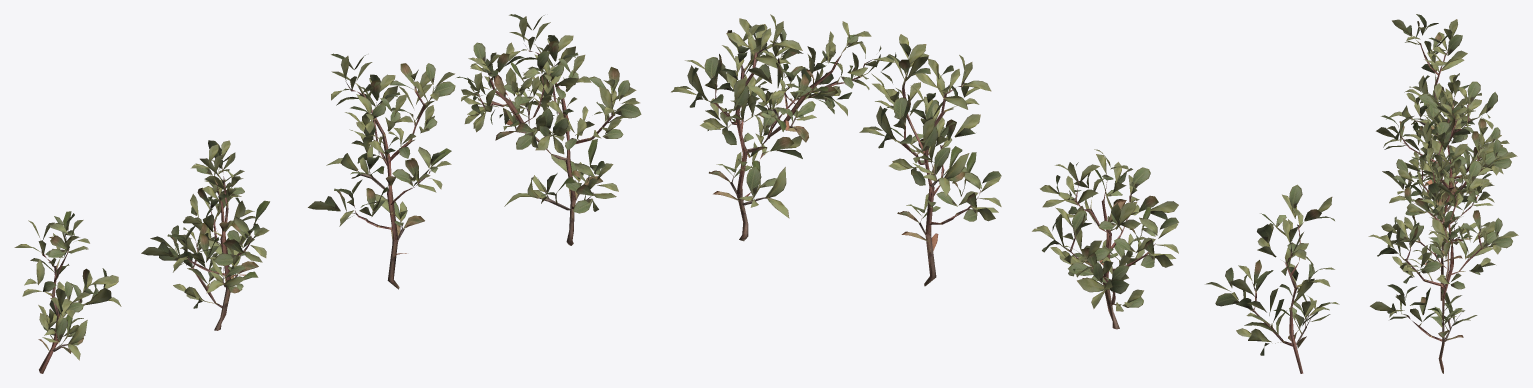
File: shrub.glb
The picture shows the model from 3 angles, left to right: view 1: azimuth 30°, elevation 25°; view 2: azimuth 150°, elevation 25°; view 3: azimuth 270°, elevation 25°; orthographic projection. The views are drawn at different scales.
Visible parts, largest first — view 1: shrub_04; view 2: shrub_04; view 3: shrub_04.
Boxes of the visible parts, box(x1,y1,x2,y2) form: shrub_04: box(14, 14, 641, 373); shrub_04: box(671, 14, 1339, 373); shrub_04: box(1368, 14, 1518, 373).
Size of the model in its own units: 0.5837 by 0.2185 by 0.1461.
Materials: 1 (1 with a texture image).
